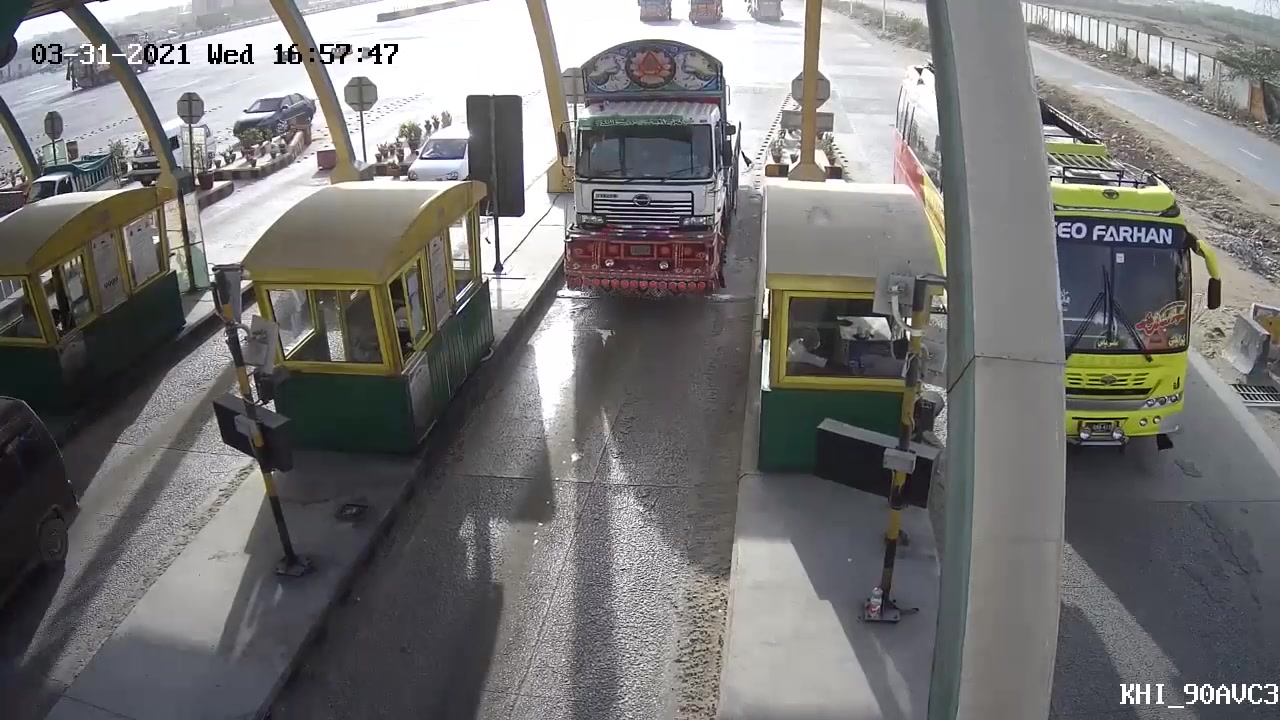F5: (527, 35, 756, 316)
